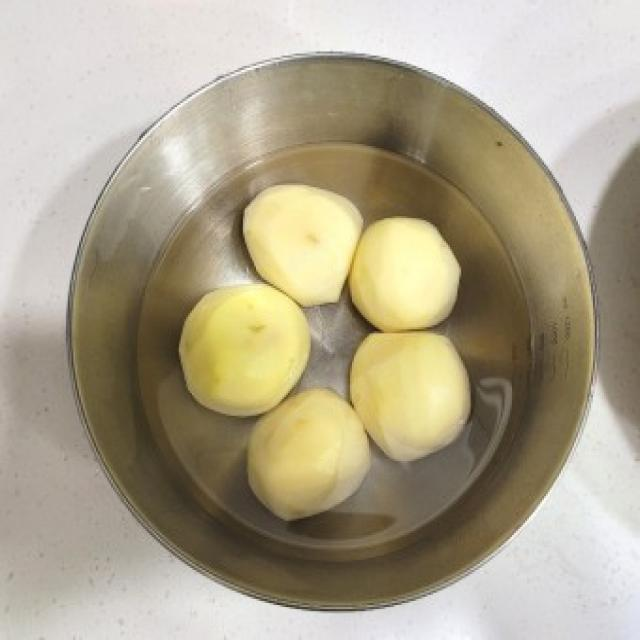potato: (178, 280, 312, 418), (348, 324, 474, 466), (246, 383, 371, 525), (236, 180, 362, 304), (348, 215, 462, 330)
